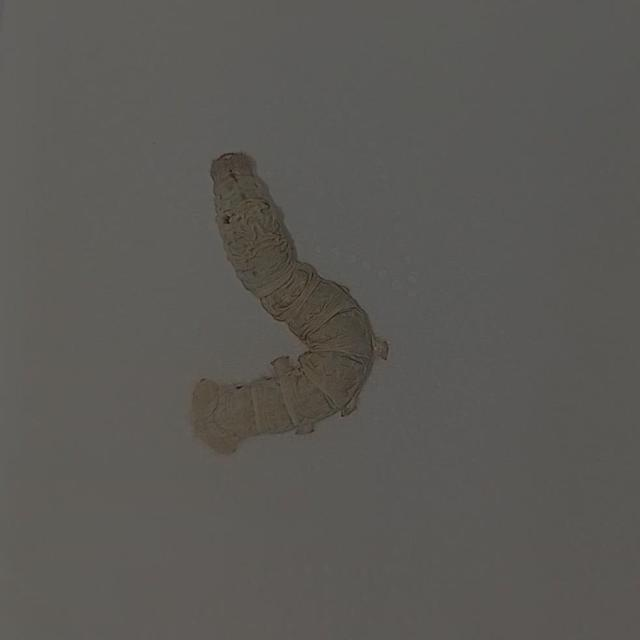Healthy: (162, 121, 422, 487)
